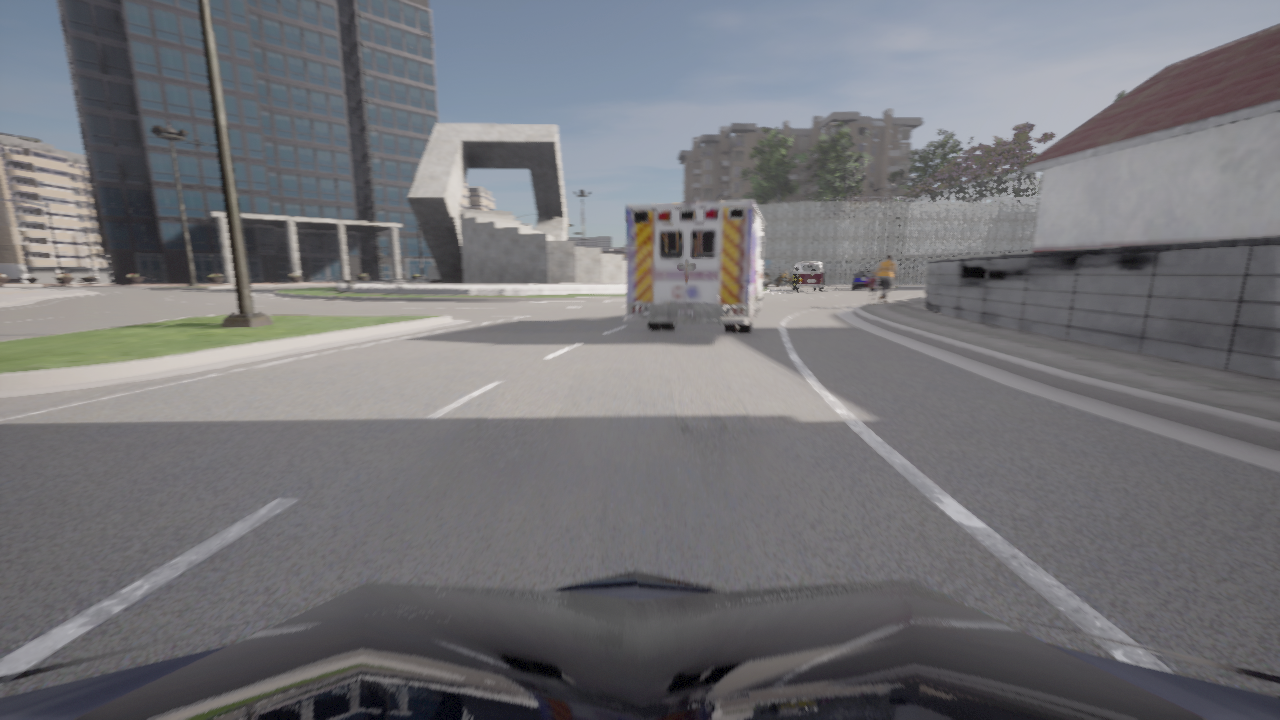cyclist: (0, 569, 1279, 719), (623, 200, 772, 333), (790, 261, 823, 291), (851, 269, 881, 291)
pedestrian: (875, 253, 896, 302), (863, 271, 878, 304)
